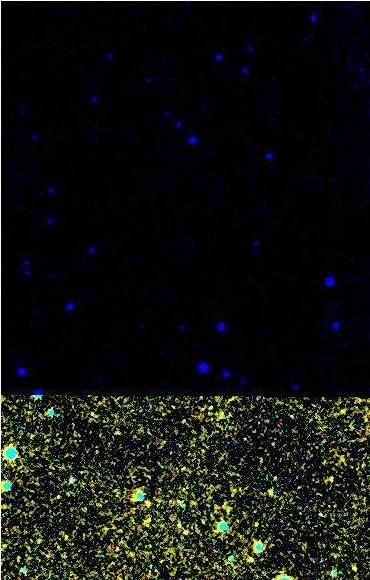star: (136, 506, 166, 536)
